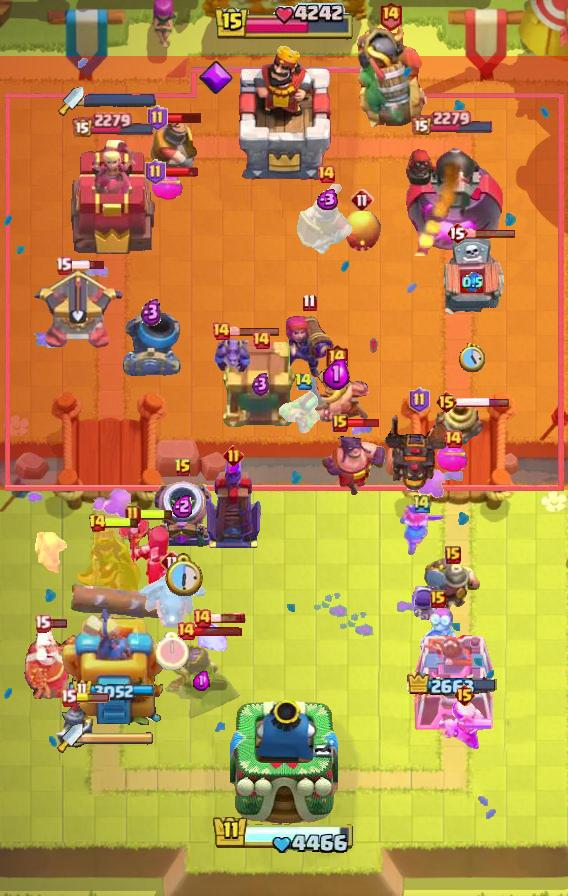bar: (456, 397, 510, 408), (229, 326, 281, 337), (465, 228, 517, 239), (193, 626, 243, 637), (166, 111, 203, 124), (104, 516, 140, 529), (138, 508, 174, 521), (69, 259, 106, 271), (210, 612, 246, 624), (163, 166, 199, 178), (346, 417, 381, 429), (74, 693, 110, 703), (49, 618, 68, 629)
bar-level: (324, 343, 349, 374), (378, 0, 403, 31), (160, 550, 184, 574), (350, 188, 374, 212), (453, 683, 476, 707), (435, 390, 458, 414), (409, 387, 430, 413), (145, 159, 166, 185), (147, 105, 168, 131), (446, 221, 468, 245), (223, 445, 244, 466), (412, 493, 432, 514), (176, 621, 196, 641), (192, 608, 212, 628), (443, 429, 463, 449), (251, 330, 271, 350), (211, 321, 231, 341), (316, 164, 336, 184), (88, 513, 107, 533), (294, 372, 313, 391), (174, 458, 192, 478), (60, 688, 77, 707), (34, 614, 51, 633), (55, 256, 72, 275), (125, 505, 141, 525), (430, 590, 446, 608), (445, 546, 461, 564), (332, 414, 348, 432), (302, 293, 317, 312)
barbarian-evolution: (437, 698, 491, 752)
bomber: (418, 607, 458, 655)
cannoneer-tower: (403, 138, 504, 256)
clock: (163, 553, 203, 597), (156, 632, 189, 670), (459, 343, 485, 372)
dagger-duchess-tower: (62, 601, 166, 731), (70, 138, 158, 256)
dagger-duchess-tower-bar: (83, 731, 155, 745), (84, 93, 156, 107)
electro-dragon: (136, 568, 208, 630)
elite-barbarian: (301, 366, 371, 424)
elixir: (323, 357, 350, 390), (141, 298, 162, 326), (172, 494, 194, 518), (314, 189, 339, 210), (462, 272, 483, 293), (252, 372, 270, 396), (193, 670, 210, 691)
elixir-golem-small: (437, 442, 469, 472), (152, 170, 184, 200)
evolution-symbol: (198, 60, 234, 96)
executioner: (321, 420, 387, 498)
firecracker-evolution: (281, 308, 337, 380)
goblin: (29, 529, 67, 575)
guard: (53, 694, 103, 752)
king-tower: (230, 43, 338, 181), (230, 698, 338, 826)
king-tower-bar: (212, 814, 356, 856), (213, 3, 355, 43)
lava-pup: (196, 622, 230, 654)
miner: (422, 555, 484, 625)
minion: (213, 332, 253, 376)
mortar: (121, 312, 181, 376)
mortar-evolution: (151, 480, 215, 550)
night-witch: (116, 515, 176, 599)
phoenix-egg: (342, 209, 382, 253)
queen-tower: (412, 623, 494, 731)
royal-recruit: (297, 184, 355, 254), (144, 116, 204, 178)
skeleton-evolution: (411, 586, 442, 626)
spear-goblin: (279, 391, 327, 435)
the-log: (69, 582, 169, 620)
tower-bar: (407, 672, 499, 699), (72, 111, 156, 137), (411, 109, 495, 135), (73, 679, 155, 700)
valkyrie: (398, 503, 446, 557)
zappy: (434, 399, 484, 447)
